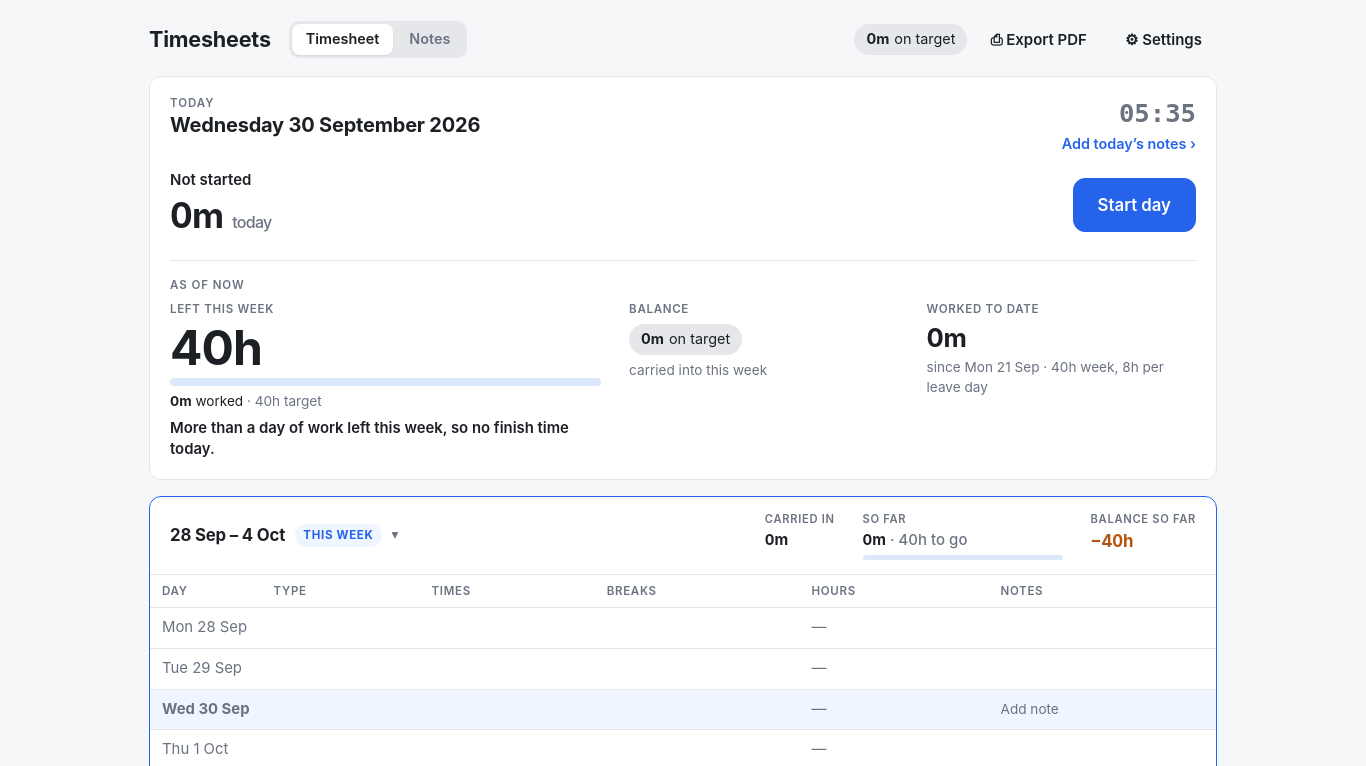
App › shows the server rule when an action is refused
This screenshot has width=1366, height=766.
Step 1. Click the button "Start day" → (1134, 205), box [1073,178,1196,232]
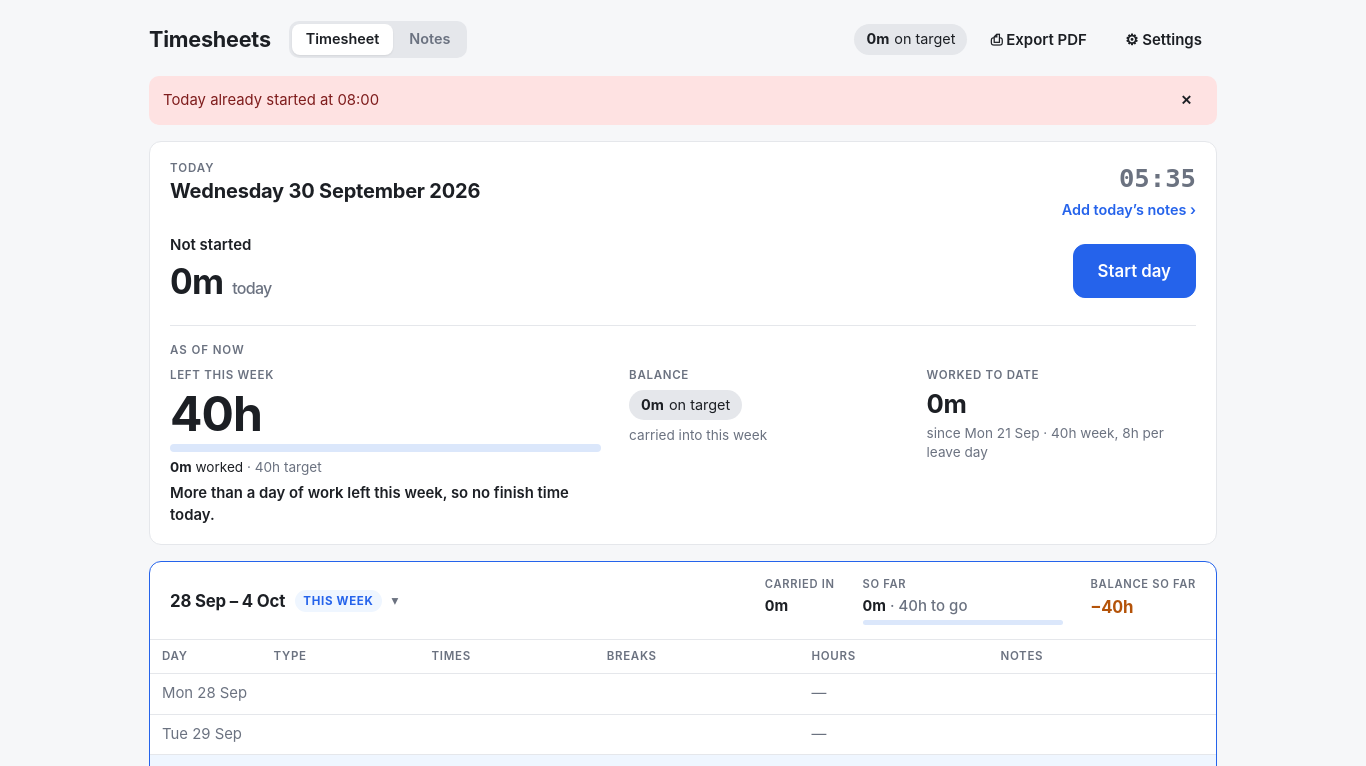
Now the message shows "Today already started at 08:00", box [163,91,379,109]
Step 2. Click the button named "Dismiss" → (1186, 101), box [1170,86,1203,116]
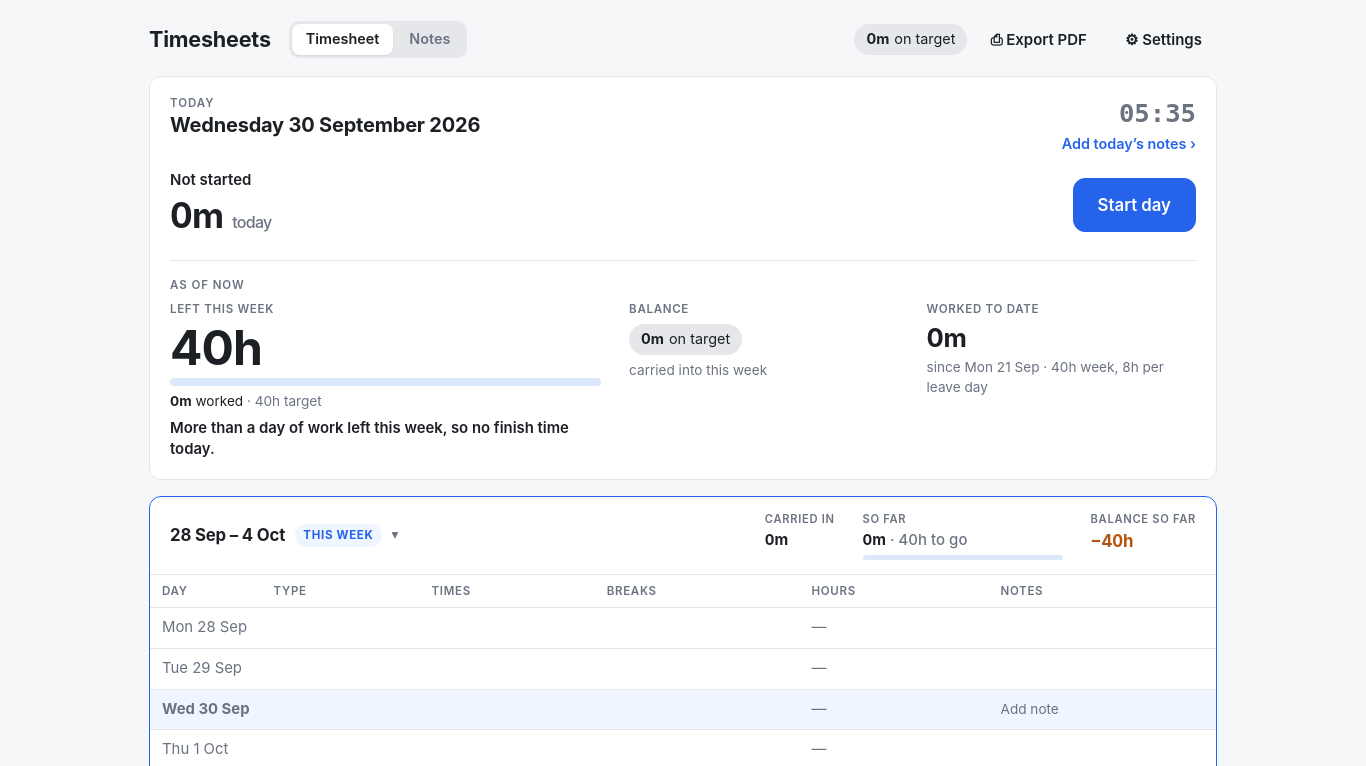
Now the message "Today already started at 08:00 ✕" is gone
